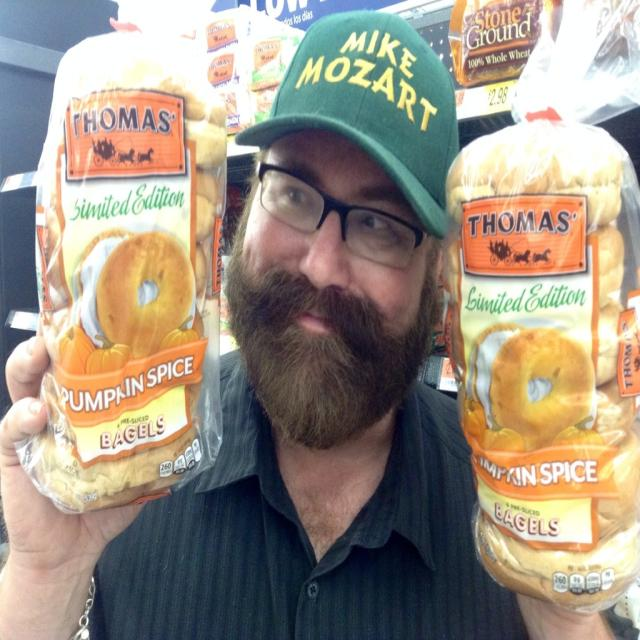Hat: (233, 13, 458, 239)
